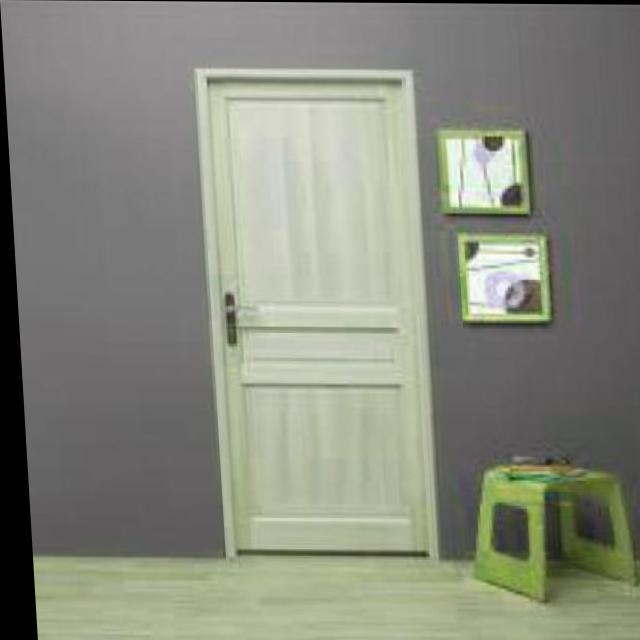door_handle: (219, 301, 262, 319)
